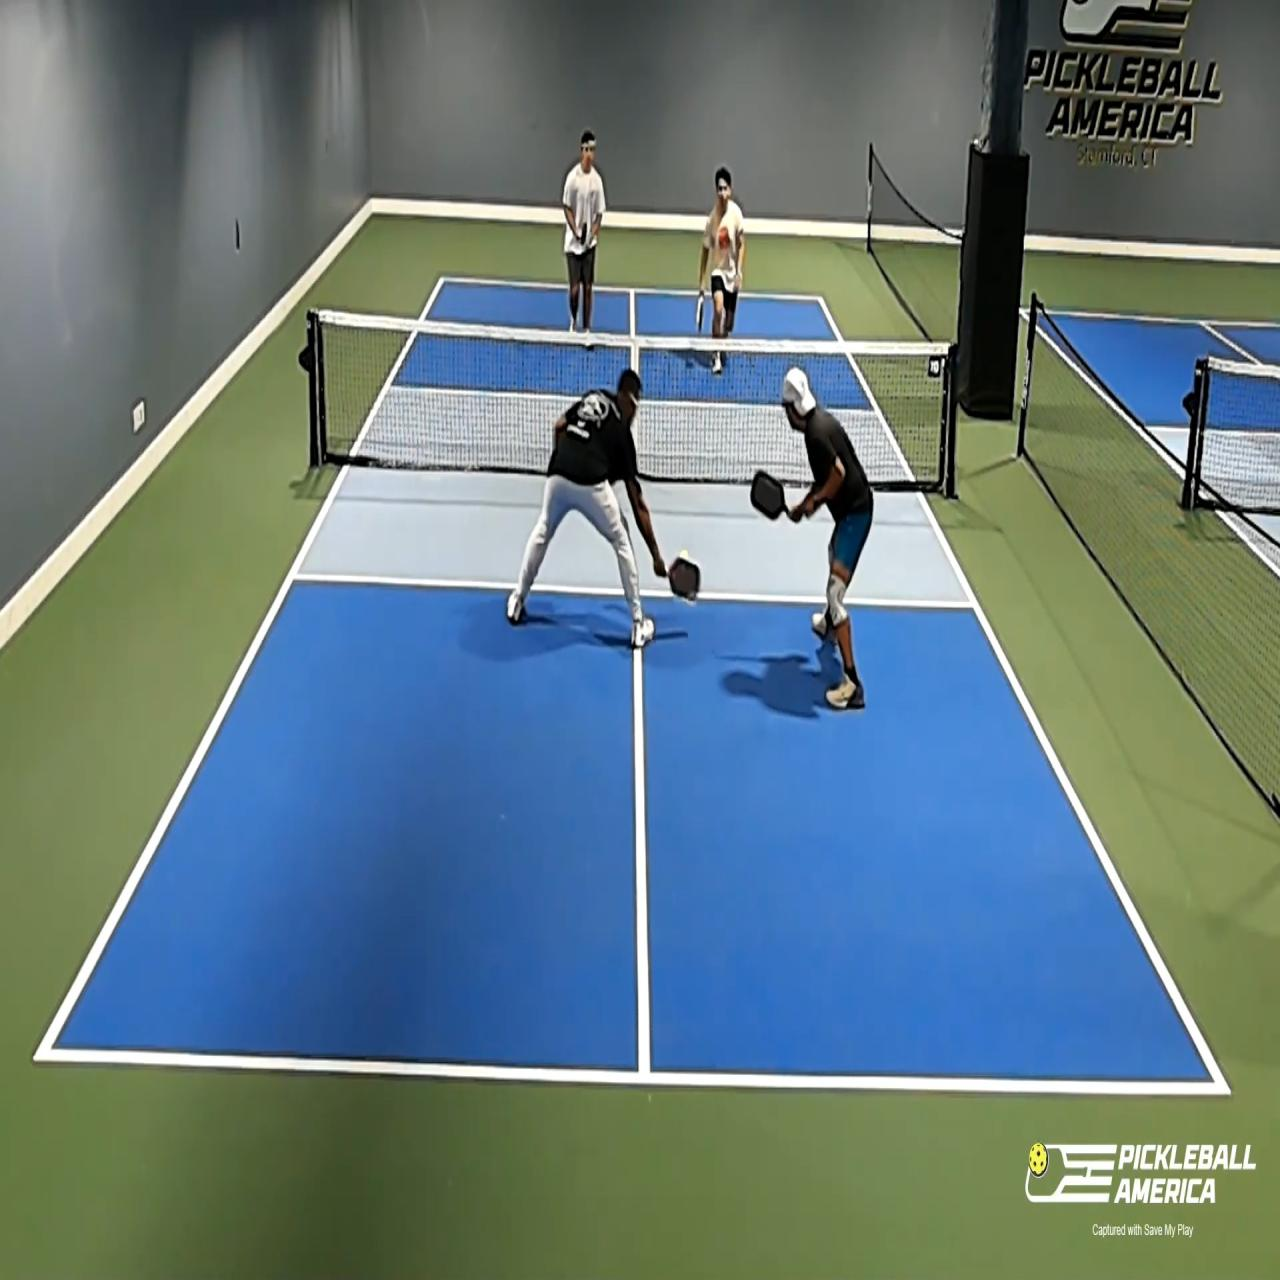Pickleball: (679, 549, 692, 565)
